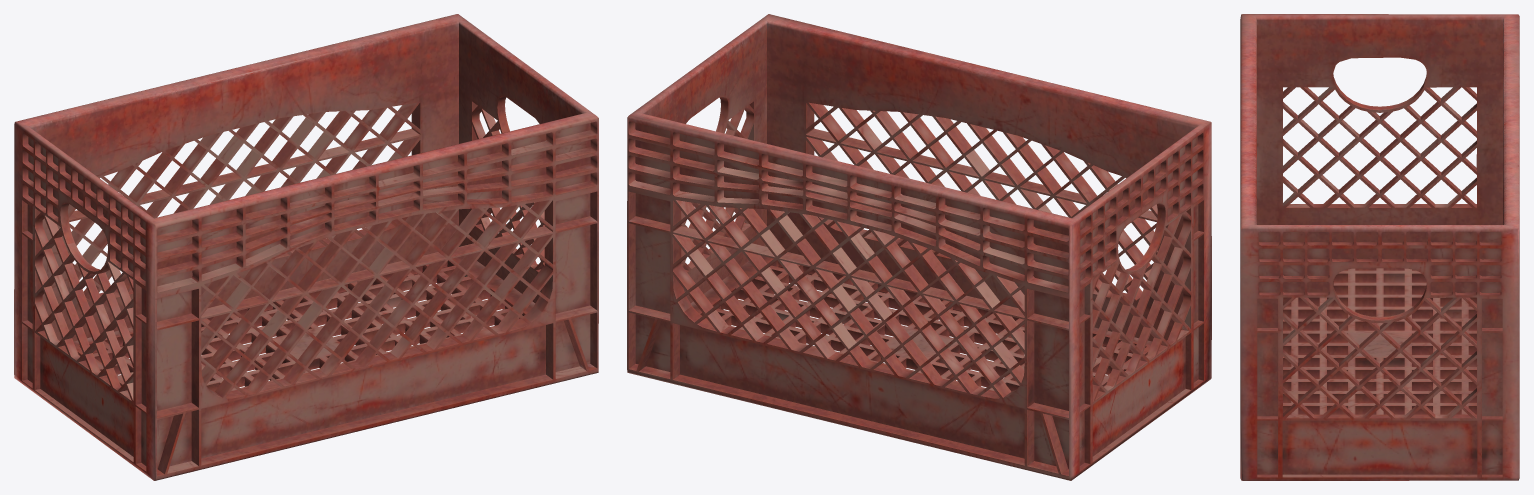
File: crate.glb
The picture shows the model from 3 angles, left to right: view 1: azimuth 30°, elevation 25°; view 2: azimuth 150°, elevation 25°; view 3: azimuth 270°, elevation 25°; orthographic projection.
Visible parts, largest first — view 1: plastic_crate_03; view 2: plastic_crate_03; view 3: plastic_crate_03.
Boxes of the visible parts, box(x1,y1,x2,y2) form: plastic_crate_03: box(14, 14, 598, 480); plastic_crate_03: box(627, 14, 1211, 480); plastic_crate_03: box(1240, 14, 1519, 480).
Size of the model in its own units: 0.4811 by 0.266 by 0.265.
Materials: 1 (1 with a texture image).
